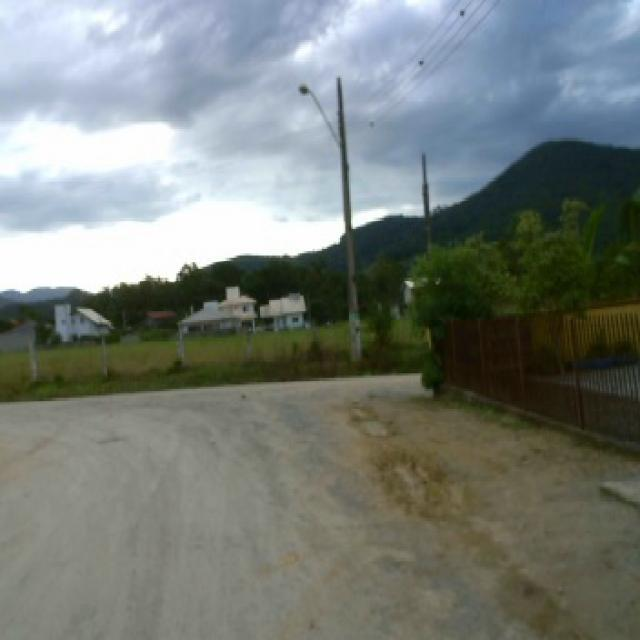Poth-hole: (348, 398, 466, 520)
